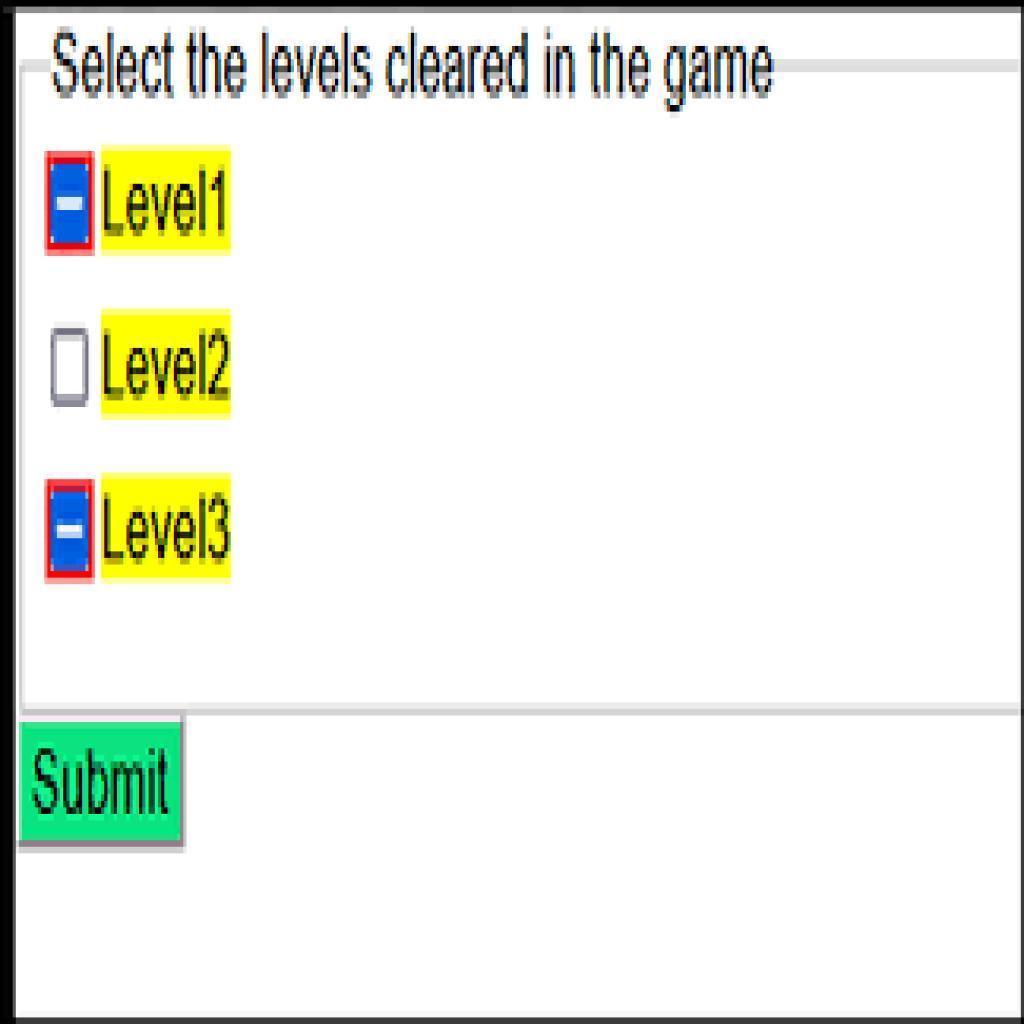button: (21, 724, 186, 841)
checkbox: (51, 332, 90, 408)
